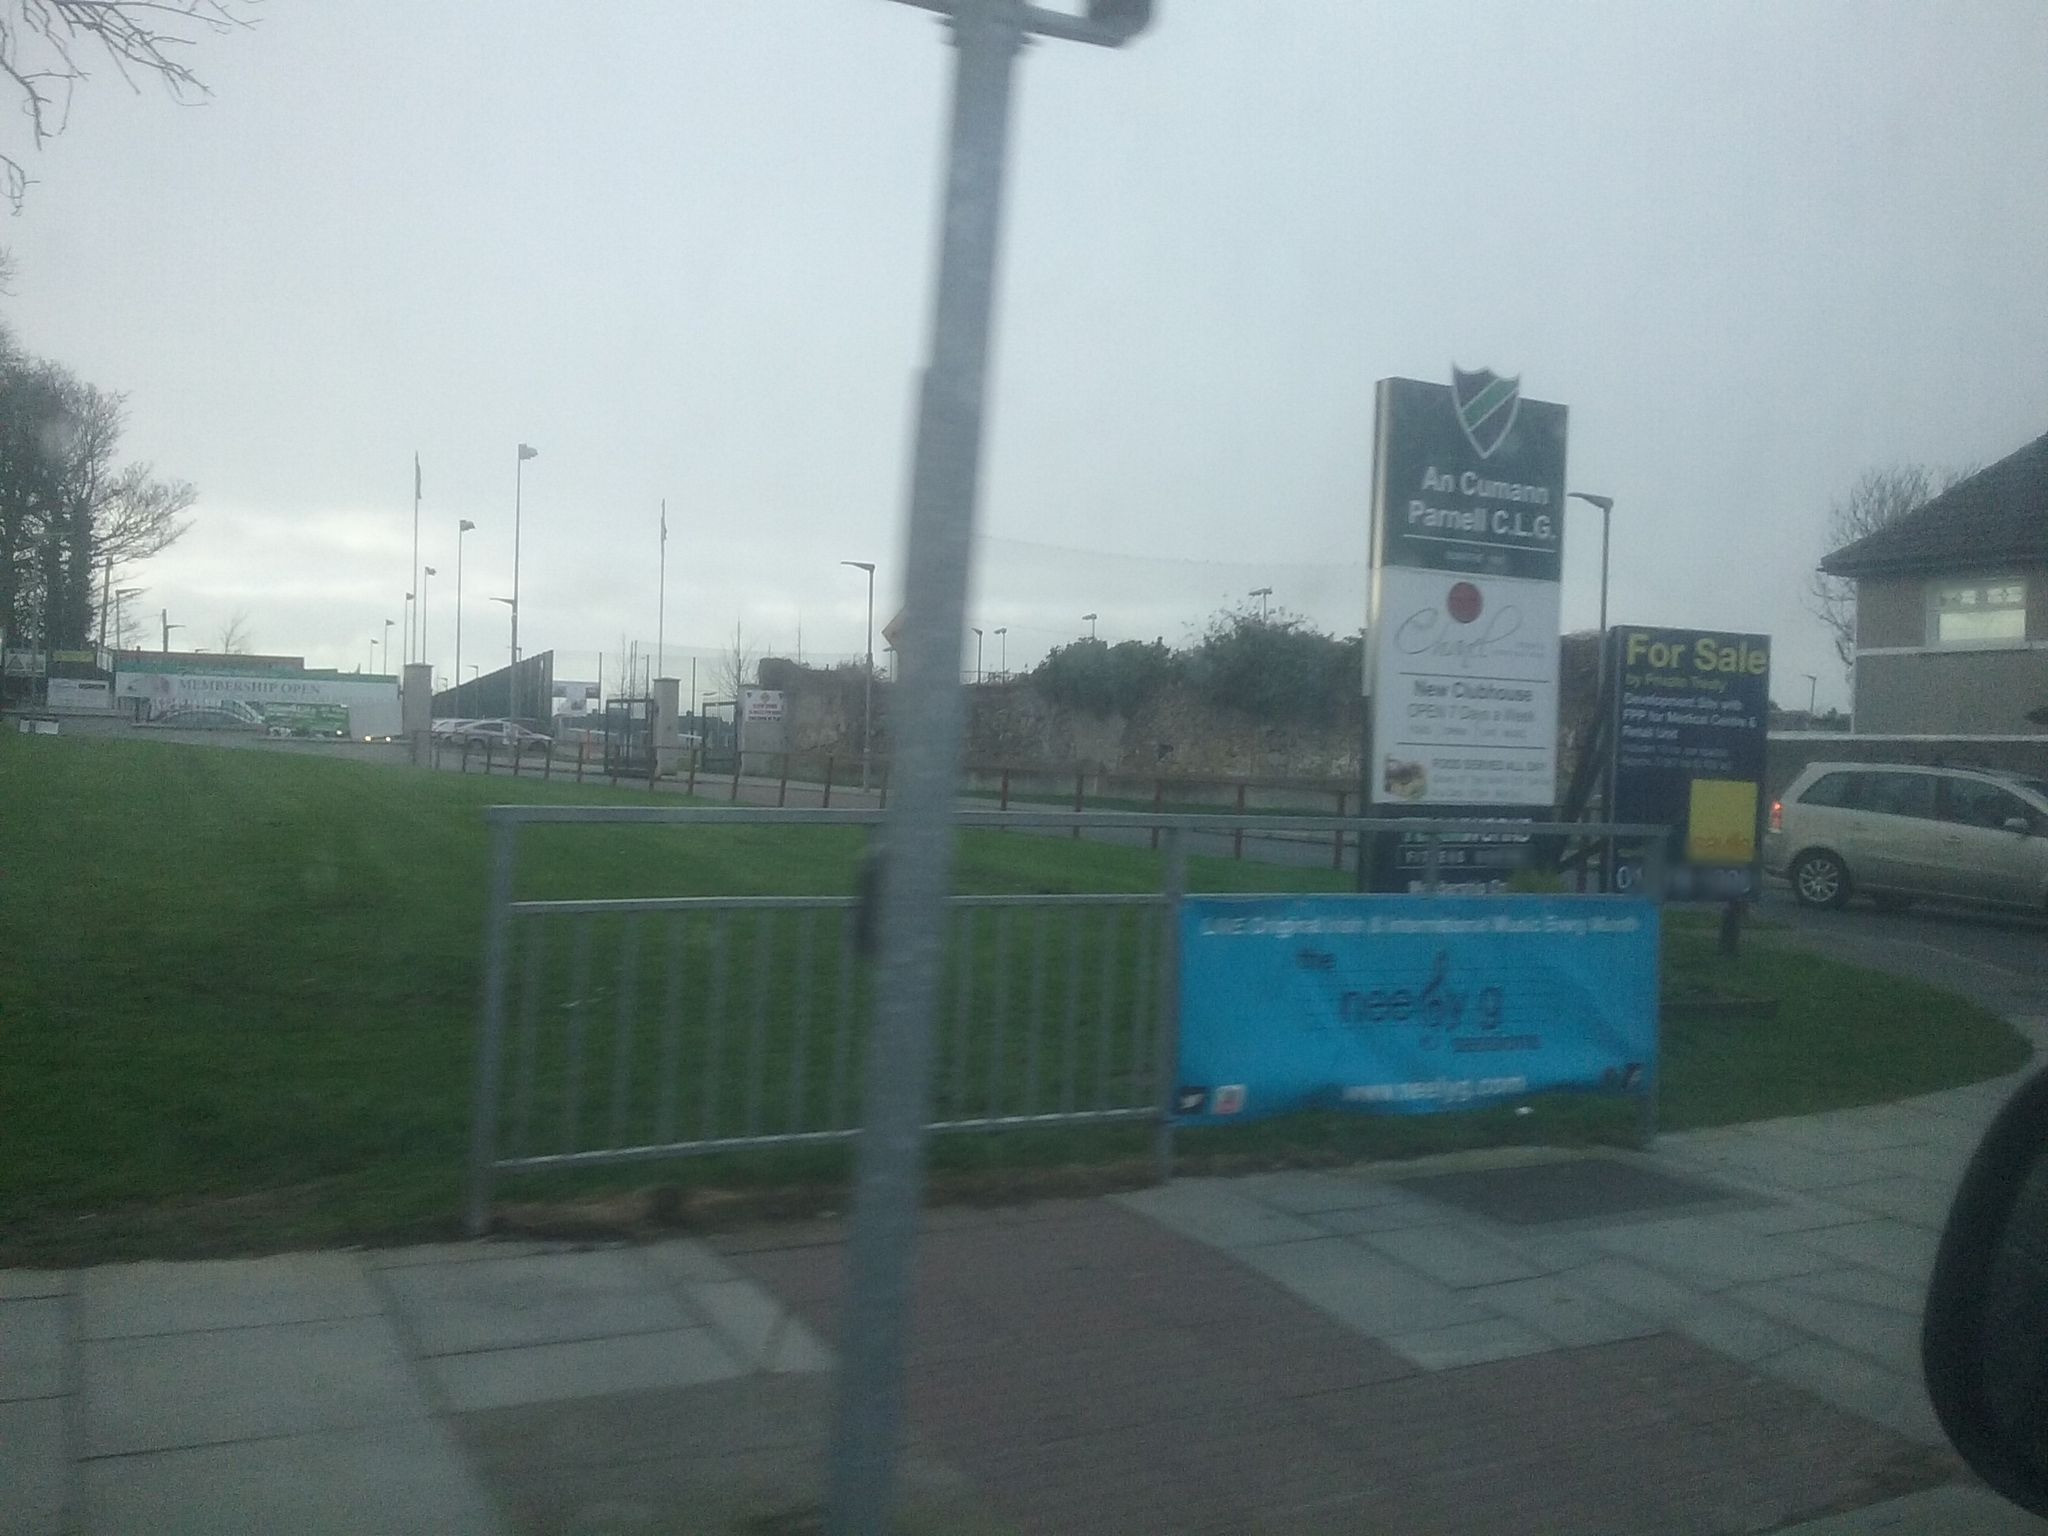property sign: (1606, 600, 1772, 929)
vinyl banner: (1166, 873, 1663, 1184)
